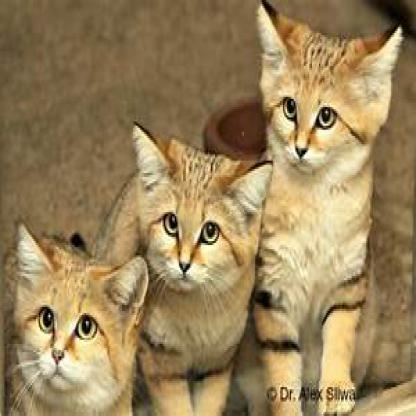cat: (115, 128, 262, 412), (15, 220, 144, 414)
